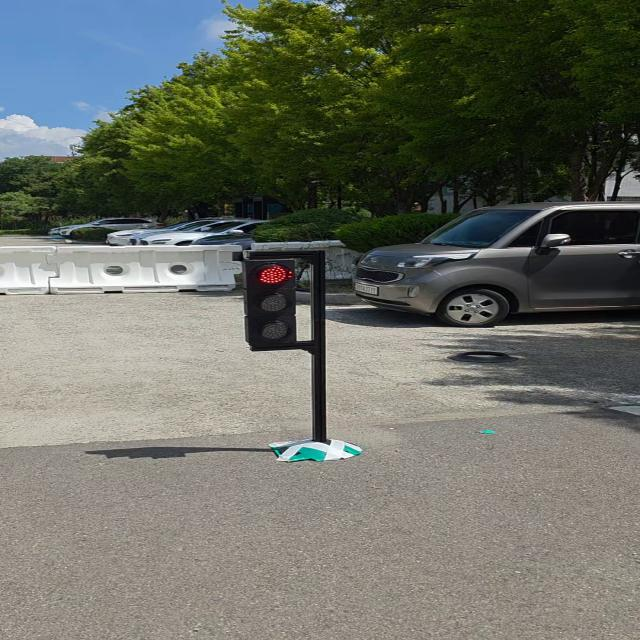red: (230, 255, 315, 351)
